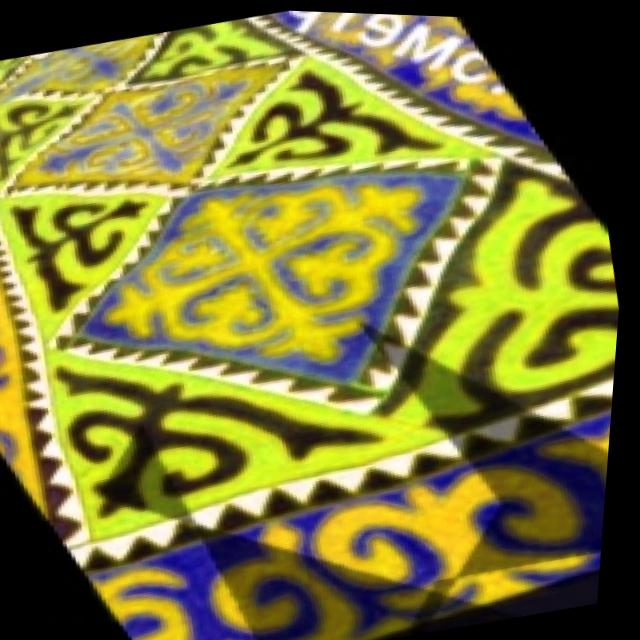Unity: (78, 184, 429, 371), (10, 71, 268, 180)
